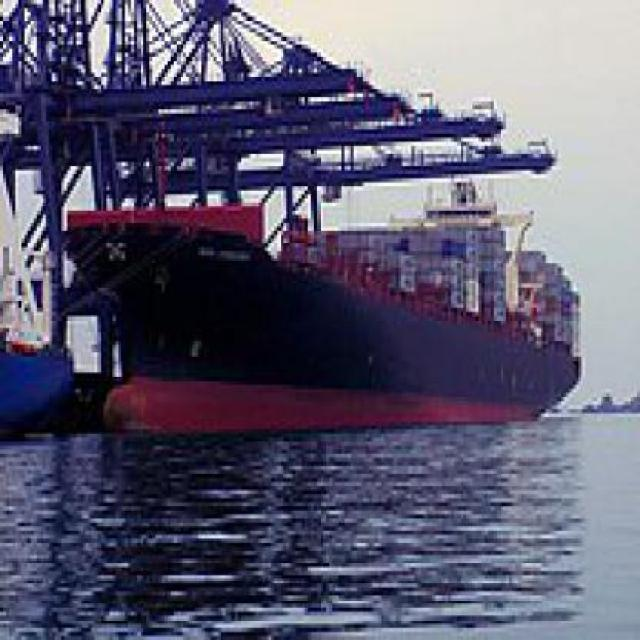container: (50, 171, 590, 439)
